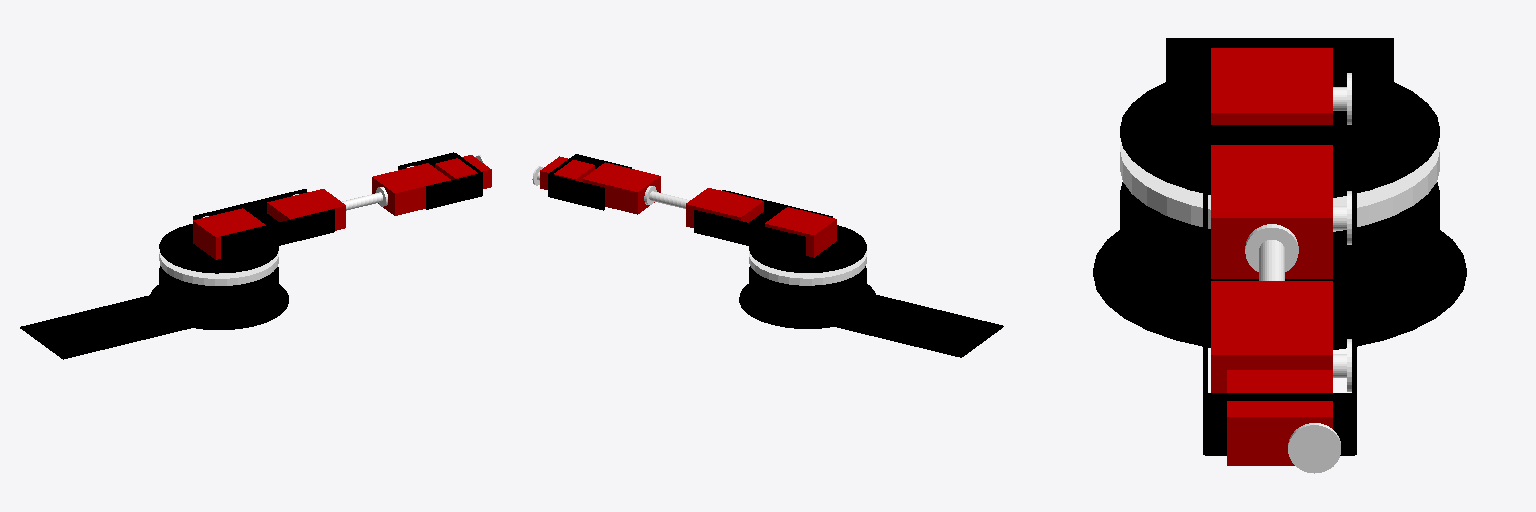
URDF robot description (robot):
<?xml version="1.0"?>
<robot name="robot">

	<material name="red">
		<color rgba="0.8 0 0 1"/>
	</material>

	<material name="blue">
		<color rgba="0 0 0.8 1"/>
	</material>
	
	<material name="white">
		<color rgba="1 1 1 1"/>
	</material>

	<material name="black">
		<color rgba="0 0 0 1"/>
	</material>


	<link name="base_link">
		<visual>
			<geometry>
				<cylinder radius="0.7" length="0.02"/>
			</geometry>
			<material name="black"/>
			<origin rpy="0 0 0" xyz="0 0 0"/>
		</visual>
	</link>


	<link name="base_black">
		<visual>
			<geometry>
				<cylinder radius="0.6" length="0.31"/>
			</geometry>
			<material name="black"/>
			<origin rpy="0 0 0" xyz="0 0 0"/>
		</visual>
	</link>

	<joint name="base_link_black" type="fixed">
		<parent link="base_link"/>
		<child link="base_black"/>
		<origin rpy="0 0 0" xyz="0 0 0.17"/>
	</joint>

	<link name="base_box">
		<visual>
			<geometry>
				<box size="2.05 0.85 0.02"/>
			</geometry>
			<material name="black"/>
			<origin rpy="0 0 0" xyz="-0.325 0 0"/>
		</visual>
	</link>

	<joint name="base_link_box" type="fixed">
		<parent link="base_link"/>
		<child link="base_box"/>
		<origin rpy="0 0 0" xyz="-0.7 0 0"/>
	</joint>


	<link name="base_white">
		<visual>
			<geometry>
				<cylinder radius="0.6" length="0.08"/>
			</geometry>
			<material name="white"/>
		<origin rpy="0 0 0" xyz="0 0 -0.04"/>
		</visual>
	</link>


	<joint name="base_black_white" type="fixed">
		<parent link="base_black"/>
		<child link="base_white"/>
		<origin rpy="0 0 0" xyz="0 0 0.34"/>
	</joint>

	<link name="base_link_rot">
		<visual>
			<geometry>
				<cylinder radius="0.6" length="0.02"/>
			</geometry>
			<material name="black"/>
			<origin rpy="0 0 0" xyz="0 0 -0.01"/>
		</visual>
	</link>
		
	<joint name="joint0" type="revolute">
		<parent link="base_white"/>
		<child link="base_link_rot"/>
		<limit effort="1000.0" lower="-1.5707" upper="1.5707" velocity="0.5"/>
		<origin rpy="0 0 0" xyz="0 0 0.08"/>
		<axis xyz="0 0 1"/>
	</joint>

	

	<link name="link1">
		<visual>
			<geometry>
				<box size="0.58 0.46 0.25"/>
			</geometry>
			<origin rpy="0 0 0" xyz="0 0 0"/>
			<material name="red"/>
		</visual>
	</link>

	<joint name="base_link1" type="fixed">
		<parent link="base_link_rot"/>
		<child link="link1"/>
		<origin rpy="0 0 0" xyz="0.1 -0.03 0.125"/>
		<axis xyz="0 0 1"/>
	</joint>

	<link name="link1_rot1">
		<visual>
			<geometry>
				<cylinder radius="0.045" length="0.05"/>
			</geometry>
			<material name="white"/>
			<origin rpy="0 0 0" xyz="0 0 -0.025"/>
		</visual>
	</link>
		
	<joint name="joint1" type="revolute">
		<parent link="link1"/>
		<child link="link1_rot1"/>
		<limit effort="1000.0" lower="0" upper="3.1415" velocity="0.5"/>
		<origin rpy="1.5707 0 0" xyz="-0.1 0.23 0"/>
		<axis xyz="0 0 1"/>
	</joint>

	<link name="link1_rot2">
		<visual>
			<geometry>
				<cylinder radius="0.1" length="0.02"/>
			</geometry>
			<material name="white"/>
			<origin rpy="0 0 0" xyz="0 0 -0.01"/>
		</visual>
	</link>
		
	<joint name="link1_rot2_rot1" type="fixed">
		<parent link="link1_rot1"/>
		<child link="link1_rot2"/>
		<origin rpy="0 0 0" xyz="0 0 -0.05"/>
	</joint>

	<link name="link1_frame1">
		<visual>
			<geometry>
				<box size="0.65 0.25 0.02"/>
			</geometry>
			<material name="black"/>
			<origin rpy="0 0 0" xyz="-0.325 0 0"/>
		</visual>
	</link>

	<joint name="link1_rot2_frame1" type="fixed">
		<parent link="link1_rot2"/>
		<child link="link1_frame1"/>
		<origin rpy="0 0 0" xyz="0.52 0 -0.03"/>
	</joint>
	
	<link name="link1_frame2">
		<visual>
			<geometry>
				<box size="0.04 0.25 0.56"/>
			</geometry>
			<material name="black"/>
			<origin rpy="0 0 0" xyz="0 0 -0.28"/>
		</visual>
	</link>

	<joint name="link1_frame1_frame2" type="fixed">
		<parent link="link1_frame1"/>
		<child link="link1_frame2"/>
		<origin rpy="0 0 0" xyz="0 0 0.56"/>
	</joint>

	<link name="link1_frame3">
		<visual>
			<geometry>
				<box size="0.65 0.25 0.02"/>
			</geometry>
			<material name="black"/>
			<origin rpy="0 0 0" xyz="-0.325 0 0"/>
		</visual>
	</link>

	<joint name="link1_frame1_frame3" type="fixed">
		<parent link="link1_frame1"/>
		<child link="link1_frame3"/>
		<origin rpy="0 0 0" xyz="0.65 0 0"/>
	</joint>

	<link name="link1_frame4">
		<visual>
			<geometry>
				<box size="0.65 0.25 0.02"/>
			</geometry>
			<material name="black"/>
			<origin rpy="0 0 0" xyz="-0.325 0 0"/>
		</visual>
	</link>

	<joint name="link1_frame2_frame4" type="fixed">
		<parent link="link1_frame2"/>
		<child link="link1_frame4"/>
		<origin rpy="0 0 0" xyz="0 0 0"/>
	</joint>

	<link name="link1_frame5">
		<visual>
			<geometry>
				<box size="0.65 0.25 0.02"/>
			</geometry>
			<material name="black"/>
			<origin rpy="0 0 0" xyz="-0.325 0 0"/>
		</visual>
	</link>

	<joint name="link1_frame4_frame5" type="fixed">
		<parent link="link1_frame4"/>
		<child link="link1_frame5"/>
		<origin rpy="0 0 0" xyz="0.65 0 0"/>
	</joint>

	<link name="link2">
		<visual>
			<geometry>
				<box size="0.65 0.25 0.46"/>
			</geometry>	
			<material name="red"/>
			<origin rpy="0 0 0" xyz="-0.325 0 0"/>
		</visual>
	</link>

	<link name="link2_rot1">
		<visual>
			<geometry>
				<cylinder radius="0.045" length="0.05"/>
			</geometry>	
			<material name="white"/>
			<origin rpy="0 0 0" xyz="0 0 -0.025"/>
		</visual>
	</link>

	
	<link name="link2_rot2">
		<visual>
			<geometry>
				<cylinder radius="0.1" length="0.02"/>
			</geometry>	
			<material name="white"/>
			<origin rpy="0 0 0" xyz="0 0 -0.01"/>
		</visual>
	</link>


	<joint name="joint2" type="revolute">
		<parent link="link1_frame3"/>
		<child link="link2_rot1"/>
		<limit effort="1000.0" lower="-1.5707" upper="1.5707" velocity="0.5"/>
		<origin rpy="0 0 0" xyz="-0.12 0 0.08"/>
		<axis xyz="0 0 1"/>
	</joint>

	<joint name="link2_rot2_rot1" type="fixed">
		<parent link="link2_rot1"/>
		<child link="link2_rot2"/>
		<origin rpy="0 0 0" xyz="0 0 -0.05"/>
	</joint>

	<joint name="link2_rot1" type="fixed">
		<parent link="link2_rot1"/>
		<child link="link2"/>
		<origin rpy="0 0 0" xyz="0.27 0 0.23"/>
	</joint>

	<link name="link2_bar1">
		<visual>
			<geometry>
				<cylinder radius="0.1" length="0.03"/>
			</geometry>	
			<material name="white"/>
			<origin rpy="0 1.57 0" xyz="-0.015 0 0"/>
		</visual>
	</link>

	<joint name="link2_bar1" type="fixed">
		<parent link="link2"/>
		<child link="link2_bar1"/>
		<origin rpy="0 0 0" xyz="0.03 0 0"/>
	</joint>

	<link name="link2_bar2">
		<visual>
			<geometry>
				<cylinder radius="0.05" length="0.5"/>
			</geometry>	
			<material name="white"/>
			<origin rpy="0 1.57 0" xyz="-0.25 0 0"/>
		</visual>
	</link>

	<joint name="link2_bar1_bar2" type="fixed">
		<parent link="link2_bar1"/>
		<child link="link2_bar2"/>
		<origin rpy="0 0 0" xyz="0.5 0 0"/>
	</joint>

	<link name="link2_bar3">
		<visual>
			<geometry>
				<cylinder radius="0.1" length="0.03"/>
			</geometry>	
			<material name="white"/>
			<origin rpy="0 1.57 0" xyz="-0.015 0 0"/>
		</visual>
	</link>

	<joint name="link2_bar2_bar3" type="fixed">
		<parent link="link2_bar2"/>
		<child link="link2_bar3"/>
		<origin rpy="0 0 0" xyz="0.03 0 0"/>
	</joint>

	<link name="link3">
		<visual>
			<geometry>
				<box size="0.65 0.25 0.46"/>
			</geometry>	
			<material name="red"/>
			<origin rpy="0 0 0" xyz="0 0 0"/>
		</visual>
	</link>

	<joint name="link2_bar3_link3" type="fixed">
		<parent link="link2_bar3"/>
		<child link="link3"/>
		<origin rpy="0 0 0" xyz="0.325 0 0"/>
	</joint>

	<link name="link3_rot1">
		<visual>
			<geometry>
				<cylinder radius="0.045" length="0.05"/>
			</geometry>	
			<material name="white"/>
			<origin rpy="0 0 0" xyz="0 0 -0.025"/>
		</visual>
	</link>

	<joint name="joint3" type="revolute">
		<parent link="link3"/>
		<child link="link3_rot1"/>
		<limit effort="1000.0" lower="-1.5707" upper="1.5707" velocity="0.5"/>
		<origin rpy="0 0 0" xyz="0.155 0 -0.23"/>
		<axis xyz="0 0 1"/>
	</joint>
	
	<link name="link3_rot2">
		<visual>
			<geometry>
				<cylinder radius="0.1" length="0.02"/>
			</geometry>	
			<material name="white"/>
			<origin rpy="0 0 0" xyz="0 0 -0.01"/>
		</visual>
	</link>

	<joint name="link3_rot2_rot1" type="fixed">
		<parent link="link3_rot1"/>
		<child link="link3_rot2"/>
		<origin rpy="0 0 0" xyz="0 0 -0.05"/>
	</joint>

	<link name="link3_frame1">
		<visual>
			<geometry>
				<box size="0.65 0.25 0.02"/>
			</geometry>
			<material name="black"/>
			<origin rpy="0 0 0" xyz="-0.325 0 0"/>
		</visual>
	</link>

	<joint name="link3_rot2_frame1" type="fixed">
		<parent link="link3_rot2"/>
		<child link="link3_frame1"/>
		<origin rpy="0 0 0" xyz="0.52 0 -0.03"/>
	</joint>
	
	<link name="link3_frame2">
		<visual>
			<geometry>
				<box size="0.02 0.25 0.56"/>
			</geometry>
			<material name="black"/>
			<origin rpy="0 0 0" xyz="0 0 -0.28"/>
		</visual>
	</link>

	<joint name="link3_frame1_frame2" type="fixed">
		<parent link="link3_frame1"/>
		<child link="link3_frame2"/>
		<origin rpy="0 0 0" xyz="0 0 0.56"/>
	</joint>

	<link name="link3_frame3">
		<visual>
			<geometry>
				<box size="0.65 0.25 0.02"/>
			</geometry>
			<material name="black"/>
			<origin rpy="0 0 0" xyz="-0.325 0 0"/>
		</visual>
	</link>

	<joint name="link3_frame2_frame3" type="fixed">
		<parent link="link3_frame2"/>
		<child link="link3_frame3"/>
		<origin rpy="0 0 0" xyz="0 0 0"/>
	</joint>

	<link name="link4">
		<visual>
			<geometry>
				<box size="0.42 0.20 0.40"/>
			</geometry>	
			<material name="red"/>
			<origin rpy="0 0 0" xyz="0 0 0"/>
		</visual>
	</link>

	<joint name="link3_frame1_link4" type="fixed">
		<parent link="link3_frame1"/>
		<child link="link4"/>
		<origin rpy="0 0 0" xyz="-0.06 0 0.28"/>
	</joint>

	<link name="link4_rot1">
		<visual>
			<geometry>
				<cylinder radius="0.045" length="0.05"/>
			</geometry>	
			<material name="white"/>
			<origin rpy="0 0 0" xyz="0 0 0.025"/>
		</visual>
	</link>

	<joint name="joint4" type="revolute">
		<parent link="link4"/>
		<child link="link4_rot1"/>
		<limit effort="1000.0" lower="-1.5707" upper="1.5707" velocity="0.5"/>
		<origin rpy="0 1.5707 0" xyz="0.21 0 -0.13"/>
		<axis xyz="0 0 1"/>
	</joint>
	
	<link name="link4_rot2">
		<visual>
			<geometry>
				<cylinder radius="0.1" length="0.02"/>
			</geometry>	
			<material name="white"/>
			<origin rpy="0 0 0" xyz="0 0 -0.01"/>
		</visual>
	</link>

	<joint name="link4_rot2_rot1" type="fixed">
		<parent link="link4_rot1"/>
		<child link="link4_rot2"/>
		<origin rpy="0 0 0" xyz="0 0 0.07"/>
	</joint>

	<!-- Gripper -->


</robot>			

--- What the picture shows (computed from the rendered views, not written in the file) ---
Views: 3 orthographic renders of the robot side by side, from view 1: azimuth 30°, elevation 25°; view 2: azimuth 150°, elevation 25°; view 3: azimuth 270°, elevation 25°.
Model robot with 28 links and 27 joints (5 revolute, 22 fixed), rooted at base_link, posed every joint at zero.
Visible links, largest first — view 1: base_box, base_black, base_link_rot, link3, link1, link2, base_white, link1_frame4, link3_frame3, link1_frame5, base_link, link4; view 2: base_box, base_black, base_link_rot, link3, link1, link2, base_white, link1_frame1, link3_frame1, link1_frame3, base_link, link4; view 3: base_black, base_link_rot, link2, link3, link1, link4, base_link, base_white, base_box, link1_frame2, link3_frame2, link4_rot2 (+4 smaller).
Link boxes in pixels (bbox=[...]): base_box: bbox=[20, 295, 192, 359]; base_black: bbox=[159, 266, 278, 323]; base_link_rot: bbox=[159, 224, 278, 273]; link3: bbox=[372, 163, 450, 215]; link1: bbox=[193, 208, 265, 259]; link2: bbox=[267, 189, 345, 230]; base_white: bbox=[159, 251, 278, 285]; link1_frame4: bbox=[221, 223, 278, 259]; link3_frame3: bbox=[426, 173, 482, 209]; link1_frame5: bbox=[279, 209, 334, 245]; base_link: bbox=[149, 284, 288, 329]; link4: bbox=[435, 155, 491, 188]; base_box: bbox=[828, 292, 1003, 357]; base_black: bbox=[749, 266, 866, 322]; base_link_rot: bbox=[749, 225, 866, 272]; link3: bbox=[583, 162, 660, 214]; link1: bbox=[765, 207, 836, 257]; link2: bbox=[686, 188, 763, 227]; base_white: bbox=[749, 251, 866, 285]; link1_frame1: bbox=[749, 224, 805, 259]; link3_frame1: bbox=[548, 174, 604, 210]; link1_frame3: bbox=[694, 210, 749, 245]; base_link: bbox=[739, 284, 875, 328]; link4: bbox=[540, 156, 594, 189]; base_black: bbox=[1120, 182, 1439, 331]; base_link_rot: bbox=[1120, 66, 1439, 197]; link2: bbox=[1211, 145, 1332, 278]; link3: bbox=[1211, 281, 1332, 392]; link1: bbox=[1211, 48, 1332, 124]; link4: bbox=[1227, 370, 1332, 465]; base_link: bbox=[1093, 230, 1466, 349]; base_white: bbox=[1120, 142, 1439, 231]; base_box: bbox=[1166, 38, 1393, 81]; link1_frame2: bbox=[1205, 125, 1354, 189]; link3_frame2: bbox=[1205, 393, 1354, 455]; link4_rot2: bbox=[1288, 423, 1340, 473].
Size in the robot's own frame: 5.15 by 1.4 by 0.85 metres.
Geometry: primitives only (box / cylinder / sphere), no mesh files.